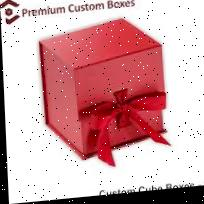cube: (37, 18, 167, 169)
